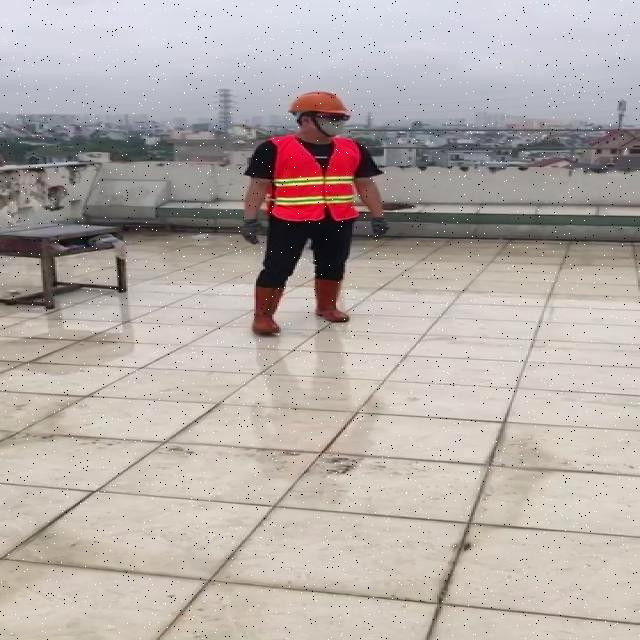Hard_hat: (285, 88, 355, 123)
Vest: (268, 135, 364, 225)
